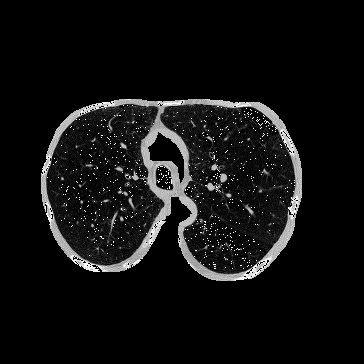PN: (60, 176, 64, 180)
